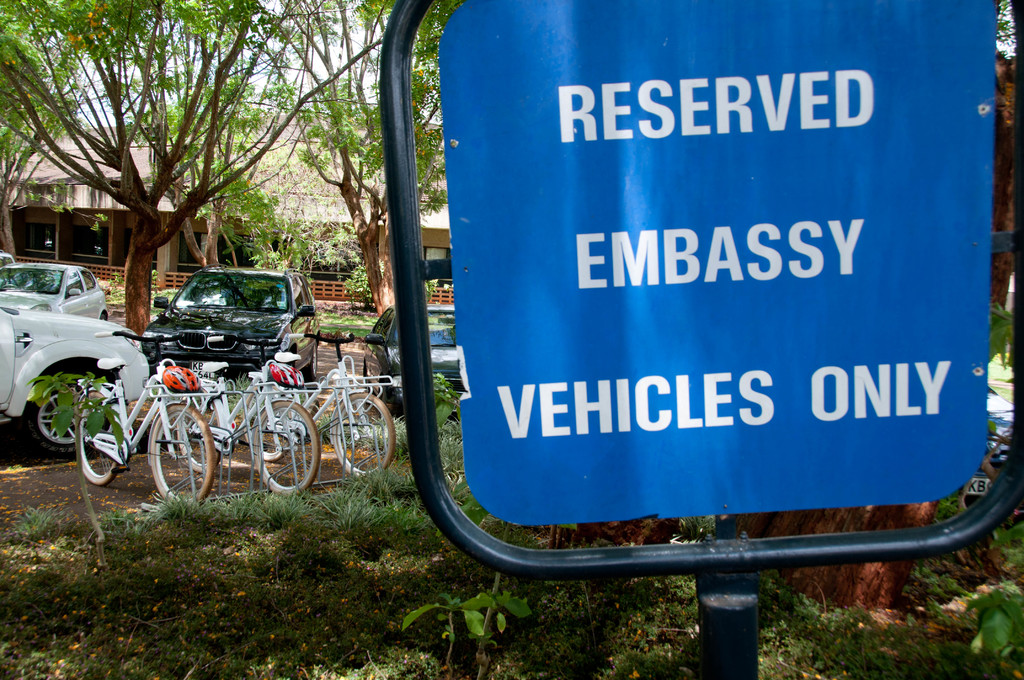Car: (0, 299, 146, 464), (142, 266, 319, 378), (362, 306, 460, 412), (0, 262, 106, 318)
